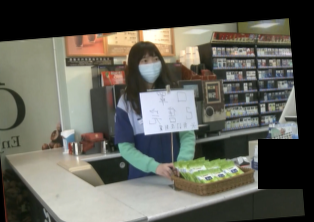with_mask: (137, 54, 163, 83)
